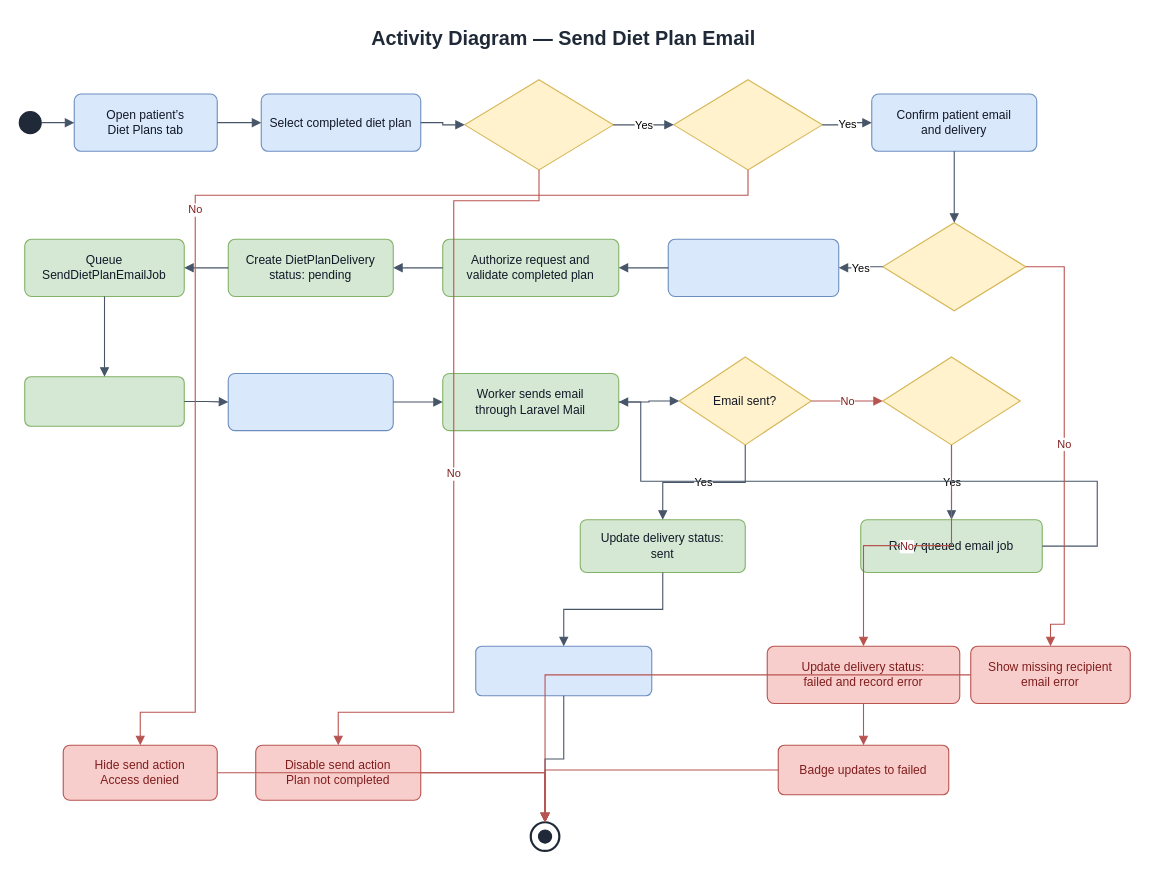
The diagram is 1150 pixels wide and 870 high, and some of its shapes have lost their labels. The centre of each missing label's shape, as x and y in pixels:
"Admin or Doctor authorized?" goes at pixel 747 124.
"Badge updates to sent" goes at pixel 563 670.
"Plan exists and status is completed?" goes at pixel 538 124.
"POST /api/patients/{id}/ diet-plans/{planId}/send" goes at pixel 753 267.
"Recipient email available?" goes at pixel 954 266.
"Retry available?" goes at pixel 951 400.
"Return 202 Accepted" goes at pixel 104 401.
"Show pending delivery badge" goes at pixel 310 401.
